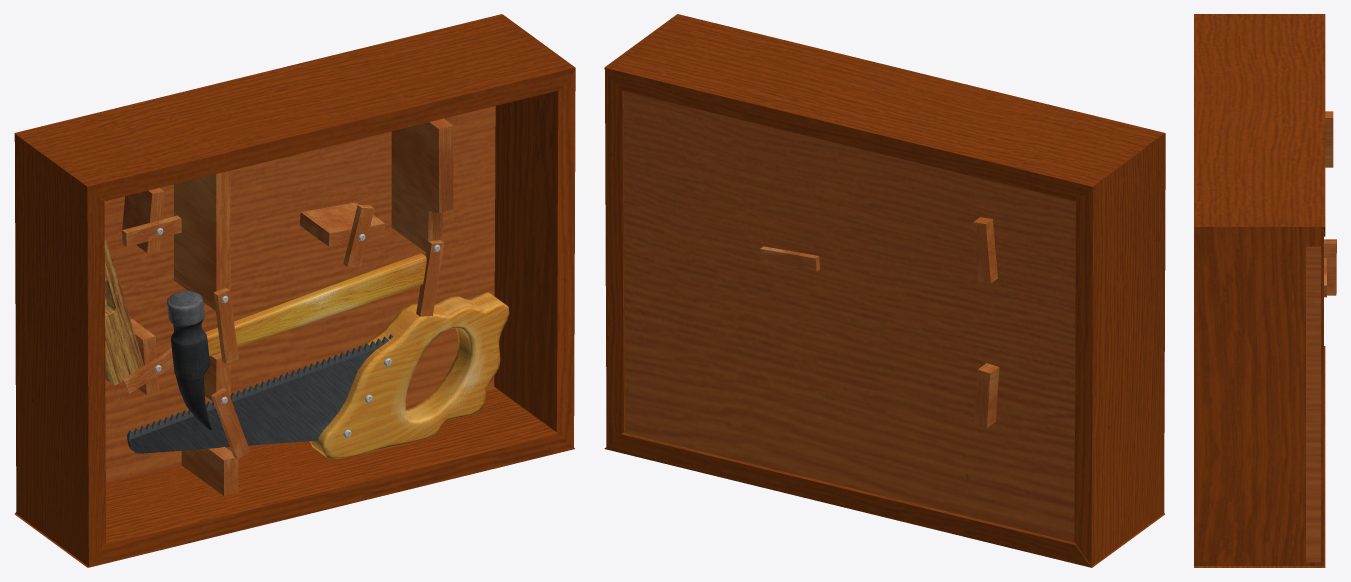
Rendered from toolkit.fbx.
The picture shows the model from 3 angles, left to right: view 1: azimuth 30°, elevation 25°; view 2: azimuth 150°, elevation 25°; view 3: azimuth 270°, elevation 25°; orthographic projection. The views are drawn at different scales.
Parts seen in each view (by area): view 1: polySurface5, polySurface2, polySurface3, polySurface4, polySurface6, nurbsToPoly5, pCube25, pCube37, pCube32, hammer_handle, hammer_head, pCube26 (+12 smaller); view 2: polySurface5, polySurface2, polySurface3, polySurface4, polySurface6, pCube48, pCube41, pCube39; view 3: polySurface6, polySurface2, polySurface5, polySurface4, pCube48, pCube41.
Boxes of the visible parts, box(x1,y1,x2,y2) form: polySurface5: box(22, 106, 495, 483); polySurface2: box(14, 14, 575, 200); polySurface3: box(14, 134, 105, 566); polySurface4: box(14, 388, 574, 567); polySurface6: box(494, 68, 575, 446); nurbsToPoly5: box(310, 292, 509, 458); pCube25: box(127, 349, 376, 453); pCube37: box(391, 118, 453, 251); pCube32: box(174, 170, 230, 310); hammer_handle: box(205, 253, 426, 356); hammer_head: box(167, 290, 211, 429); pCube26: box(104, 234, 143, 385); polySurface5: box(623, 91, 1096, 557); polySurface2: box(604, 14, 1165, 201); polySurface3: box(1074, 133, 1165, 566); polySurface4: box(604, 432, 1164, 567); polySurface6: box(605, 71, 625, 446); pCube48: box(974, 363, 999, 428); pCube41: box(973, 217, 997, 283); pCube39: box(760, 246, 819, 271); polySurface6: box(1194, 227, 1323, 565); polySurface2: box(1194, 14, 1325, 236); polySurface5: box(1306, 246, 1320, 562); polySurface4: box(1194, 346, 1325, 567); pCube48: box(1324, 239, 1336, 295); pCube41: box(1325, 111, 1333, 167).
Bounding box in the file's own units: 10.49 × 7.83 × 2.97.
